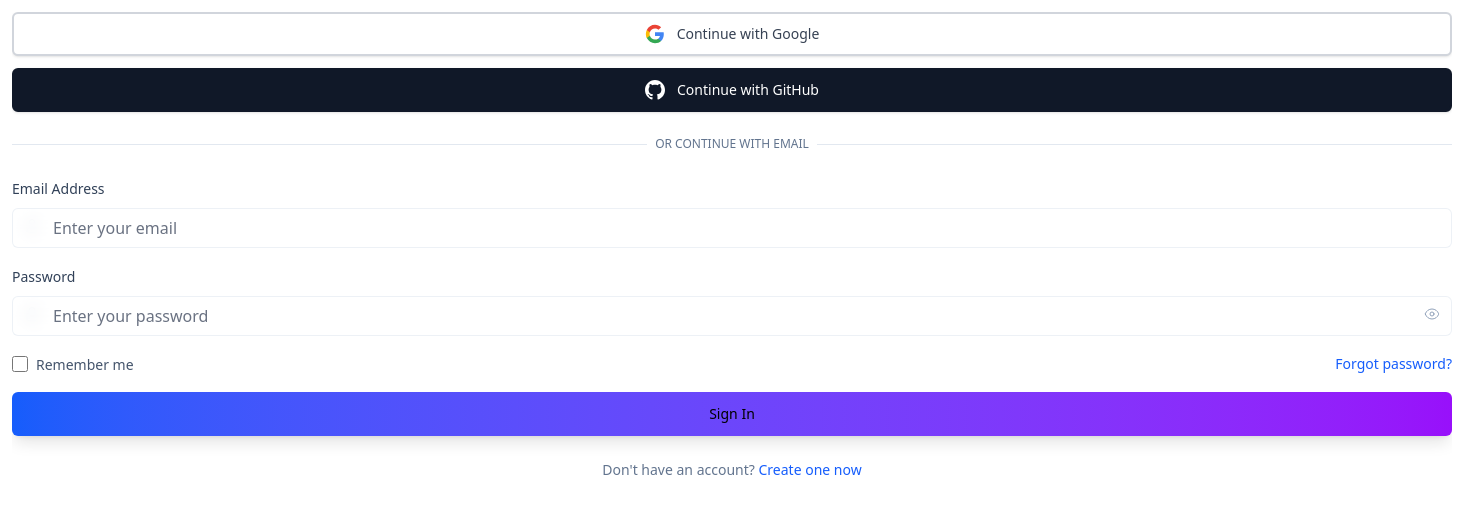
Test: LoginForm › Error Handling › clears field errors when user types
The image size is (1464, 532).
Note: Submit empty form to trigger errors
Click the button "Sign In" at (732, 414), box [12, 392, 1452, 436]
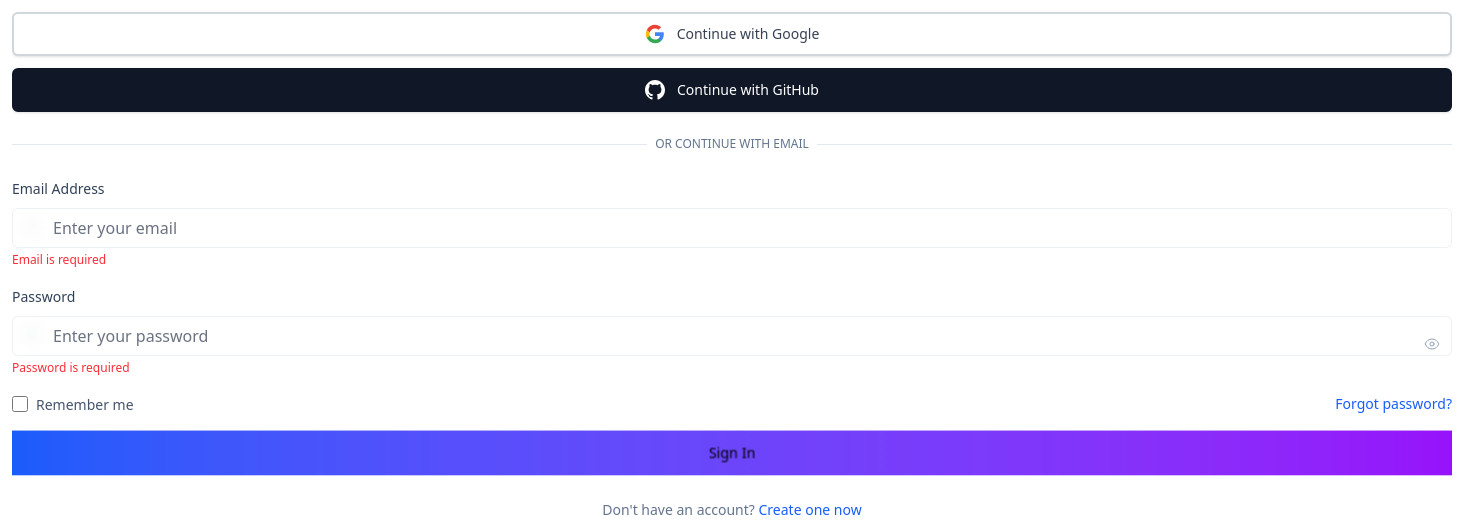
Result: the text "Email is required" is shown at [12, 251, 106, 268]
Note: Start typing in email field
Type "test" into the field labelled "Email Address" at (732, 228), box [12, 208, 1452, 248]
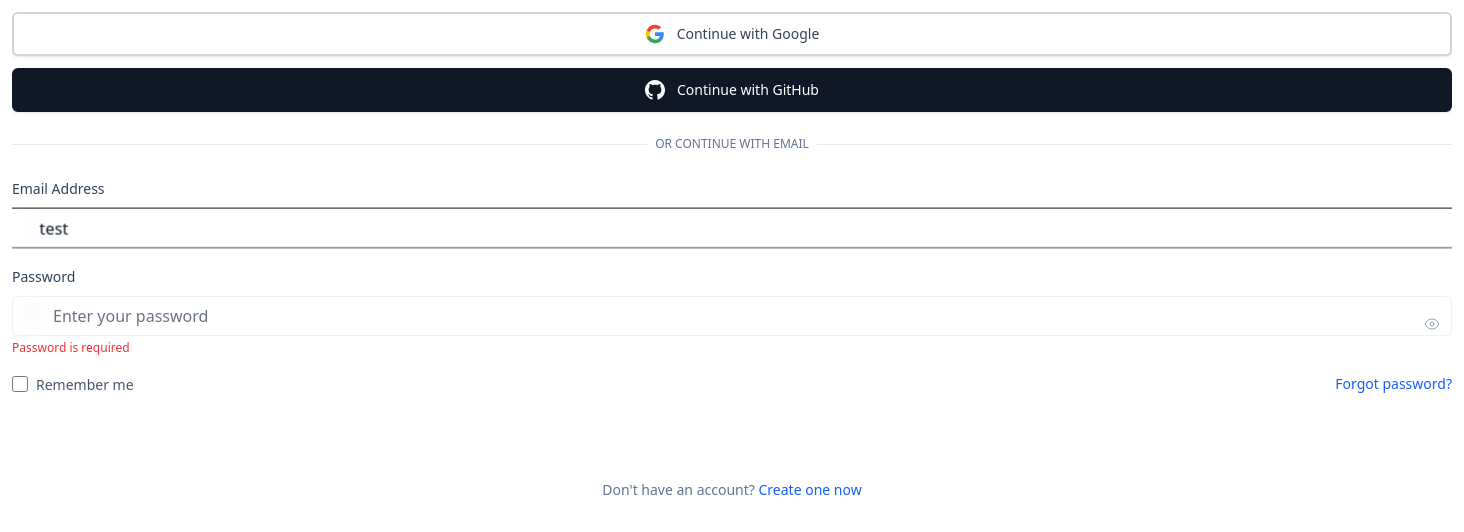
Result: the text "Email is required" is gone
